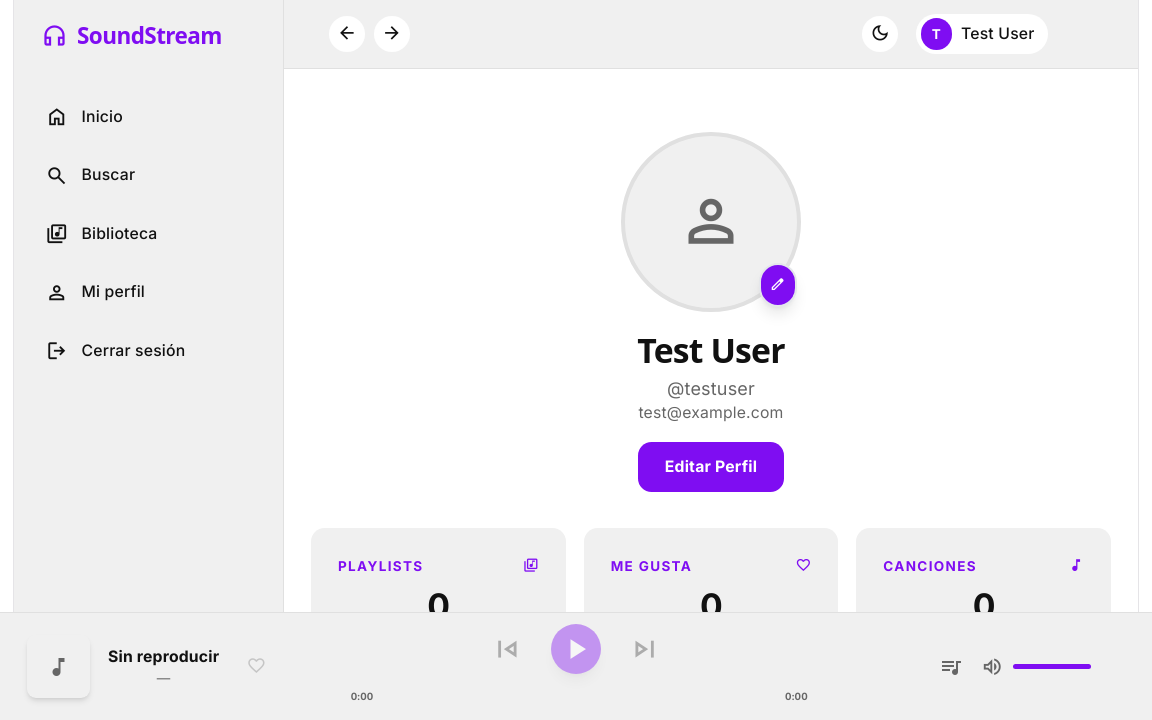
Test: Extra page coverage › renders Perfil edit profile and saves changes
expect the heading "Test User" is shown: met, box left=637, top=330, right=785, bottom=370
Click the button "Editar Perfil" at (711, 467), box left=638, top=442, right=784, bottom=492
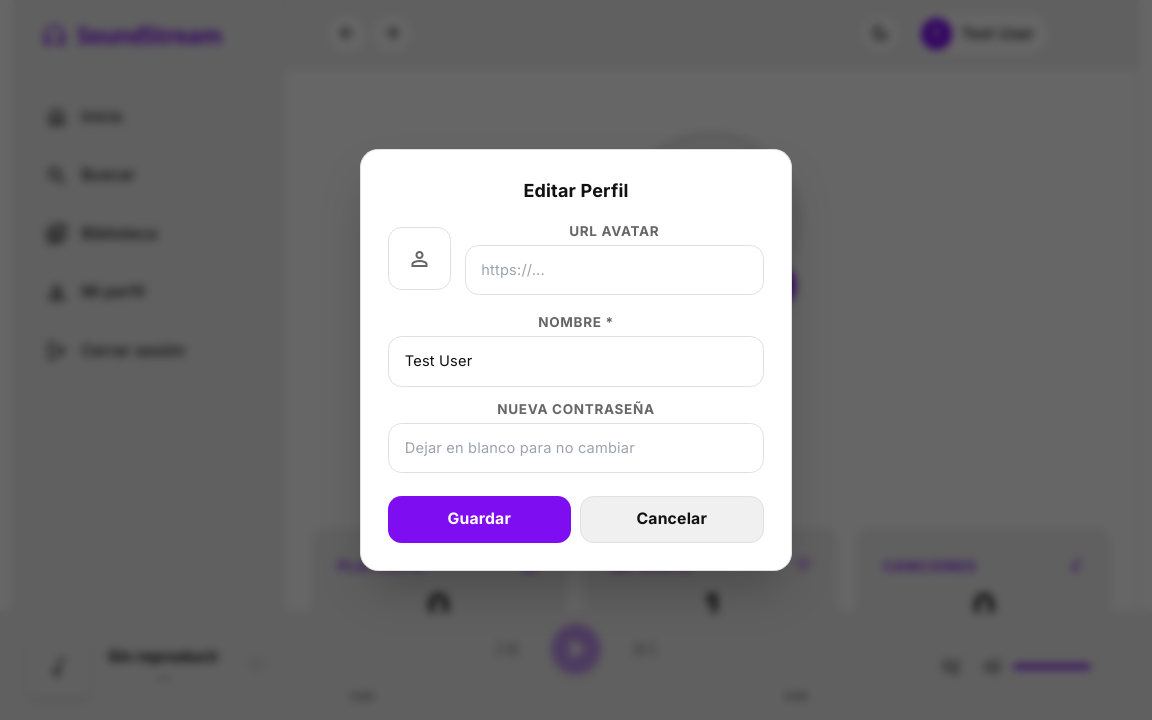
Clear the field showing "Test User" at (576, 361), box left=388, top=336, right=764, bottom=387
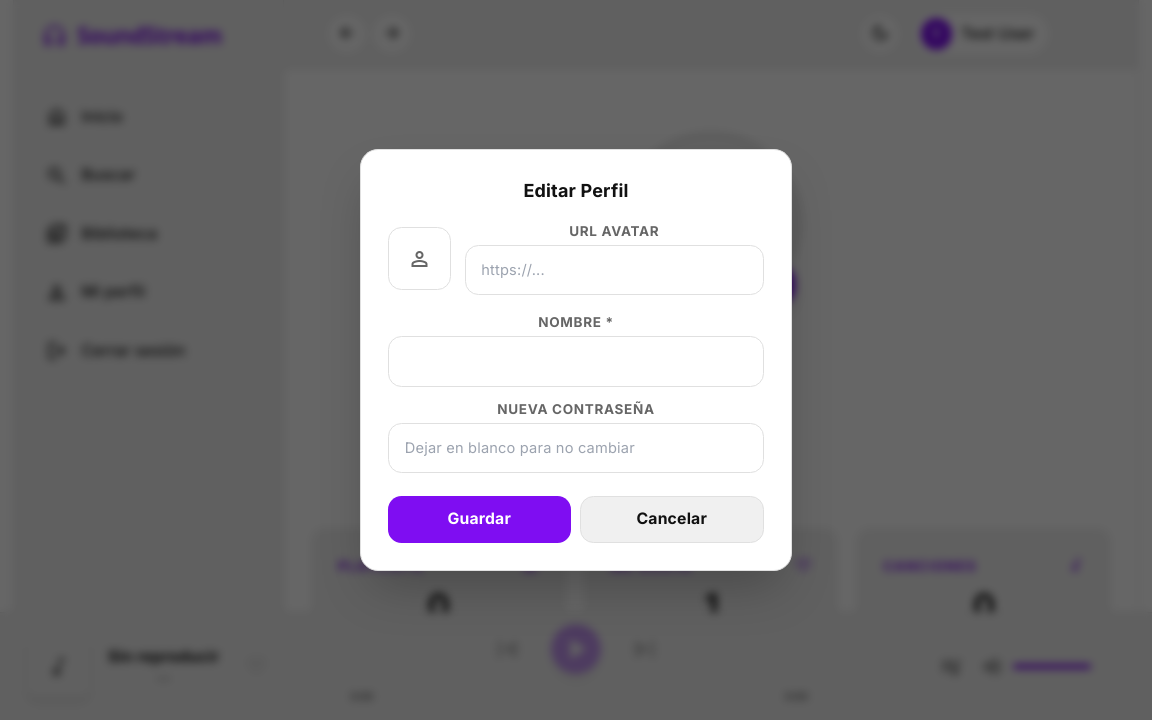
Click the button "Guardar" at (479, 519), box left=388, top=496, right=570, bottom=543
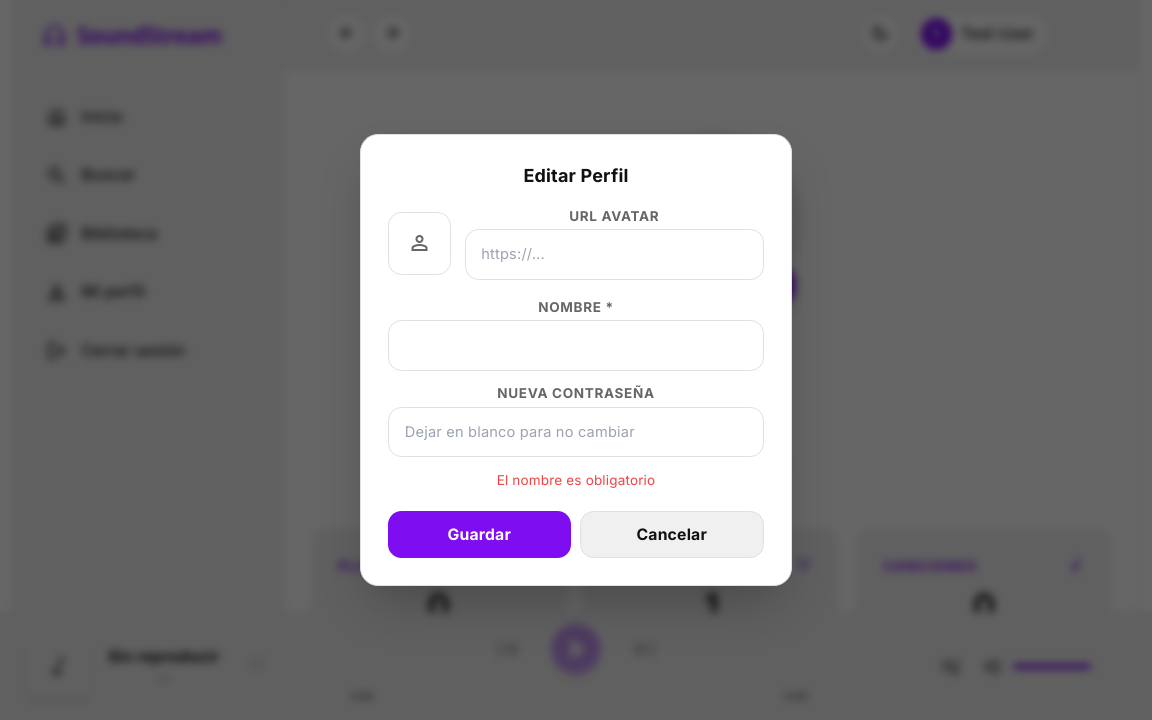
expect the text "El nombre es obligatorio" is shown: met, box left=497, top=472, right=655, bottom=488
Type "User Updated" into the field showing "Test User" at (576, 346), box left=388, top=320, right=764, bottom=371
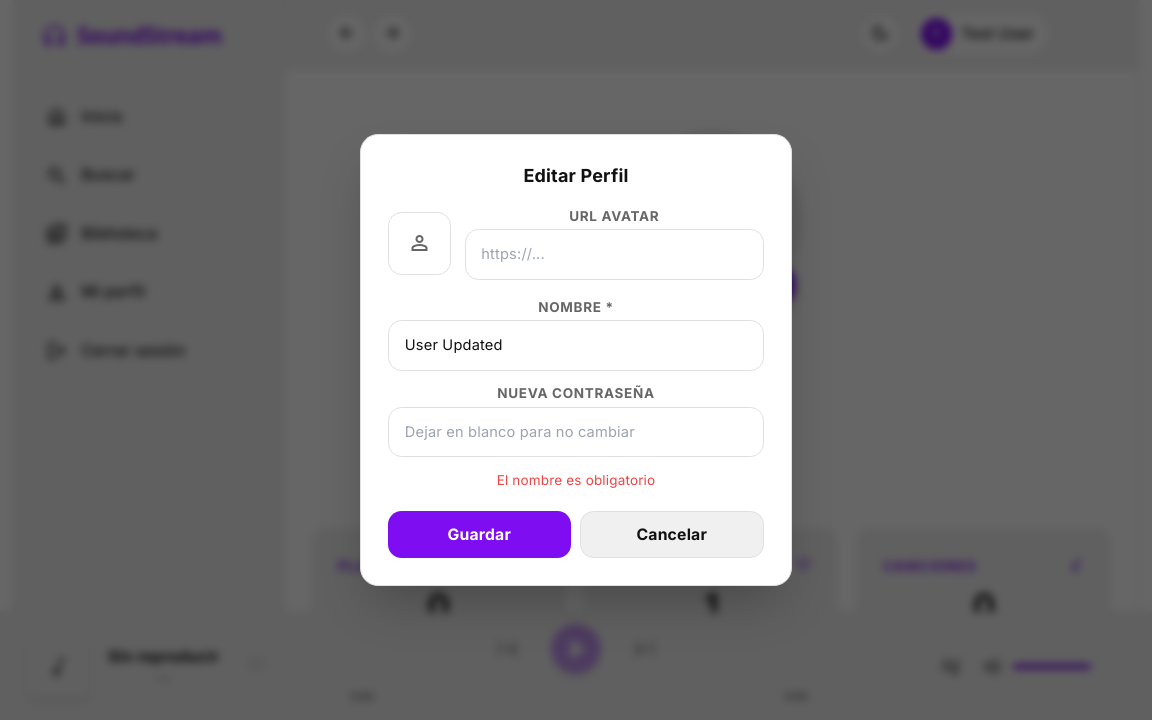
Click the button "Guardar" at (479, 535), box left=388, top=511, right=570, bottom=558
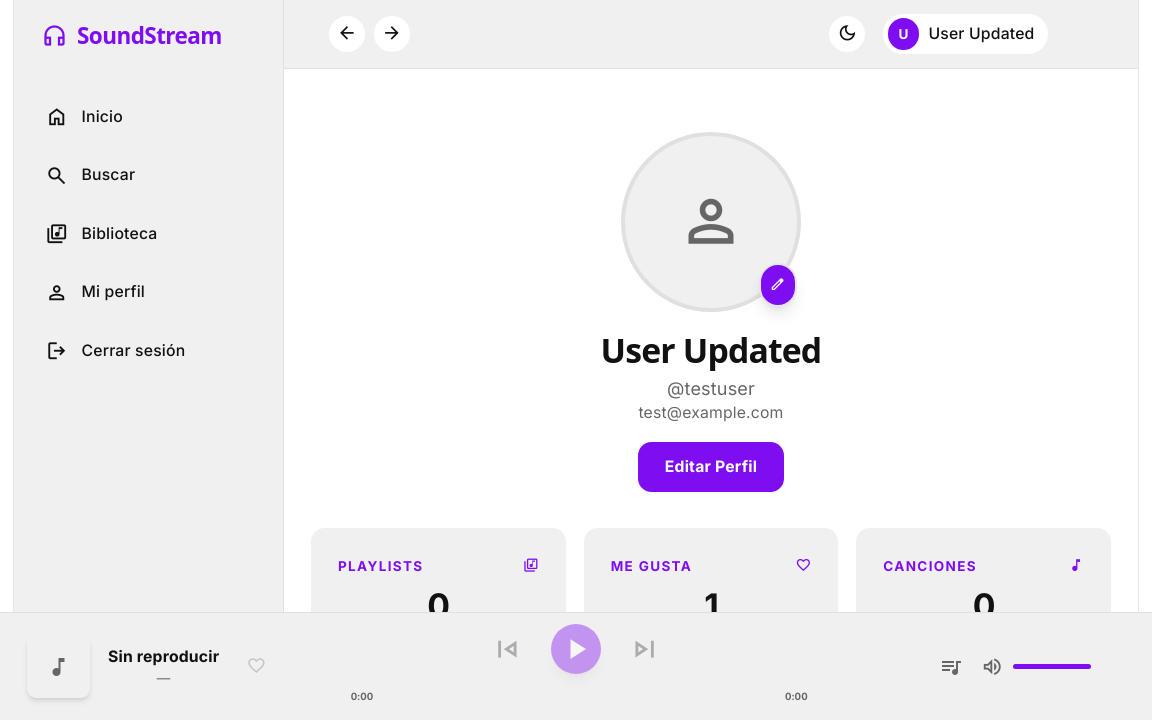
expect the heading "User Updated" is shown: met, box left=601, top=330, right=821, bottom=370
